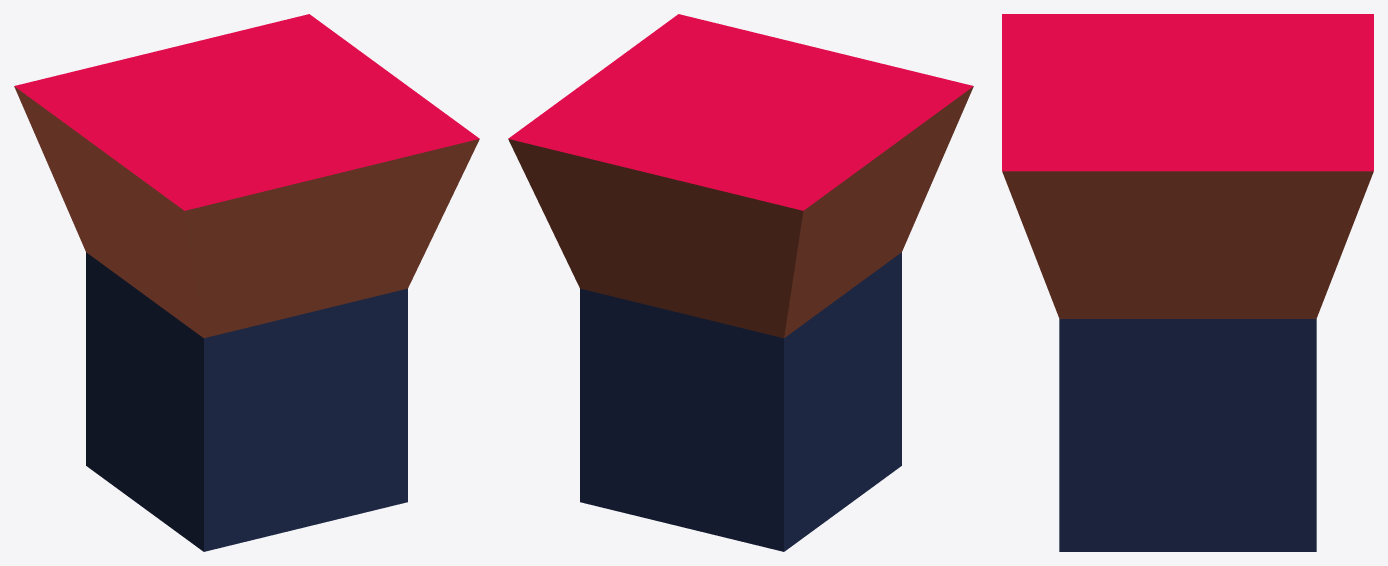
File: blender_obj.obj
The picture shows the model from 3 angles, left to right: view 1: azimuth 30°, elevation 25°; view 2: azimuth 150°, elevation 25°; view 3: azimuth 270°, elevation 25°; orthographic projection. The views are drawn at different scales.
Parts seen in each view (by area): view 1: Cube; view 2: Cube; view 3: Cube.
Boxes of the visible parts, x1,y1,x2,y2 form: Cube: (14,14,479,551); Cube: (508,14,973,551); Cube: (1002,14,1373,551).
Size of the model in its own units: 2.89 by 3.48 by 2.89.
